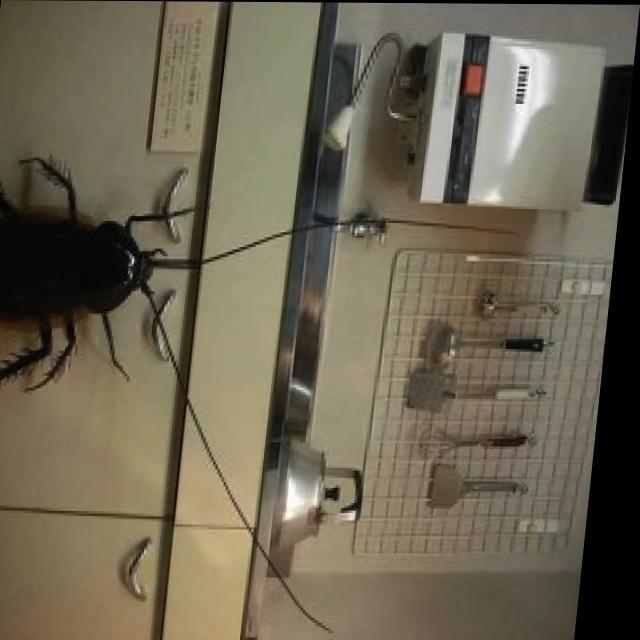cockroach: (1, 151, 191, 396)
